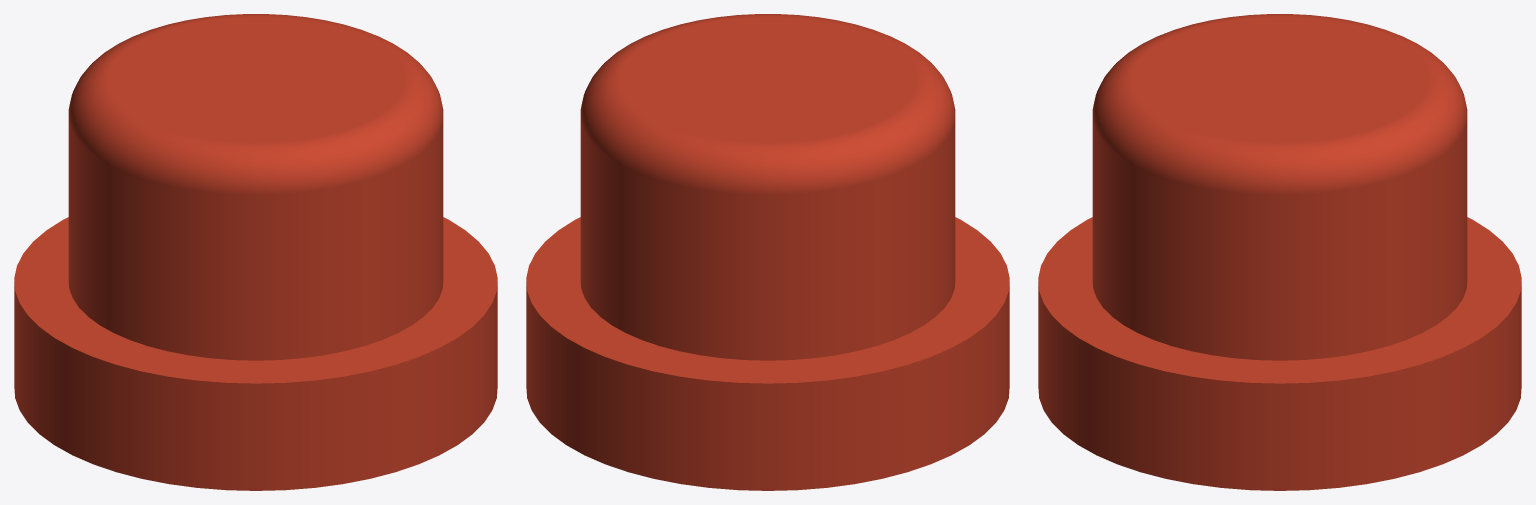
The model's file is cap.glb.
3 views of the same model, side by side, from view 1: azimuth 30°, elevation 25°; view 2: azimuth 150°, elevation 25°; view 3: azimuth 270°, elevation 25° (orthographic).
Parts seen in each view (by area): view 1: cap plastic; view 2: cap plastic; view 3: cap plastic.
Part boxes in pixels (<box>): cap plastic: <box>14,14,497,490</box>; cap plastic: <box>526,14,1009,490</box>; cap plastic: <box>1038,14,1521,490</box>.
Bounding box in the file's own units: 0.00979 × 0.0069 × 0.0098.
